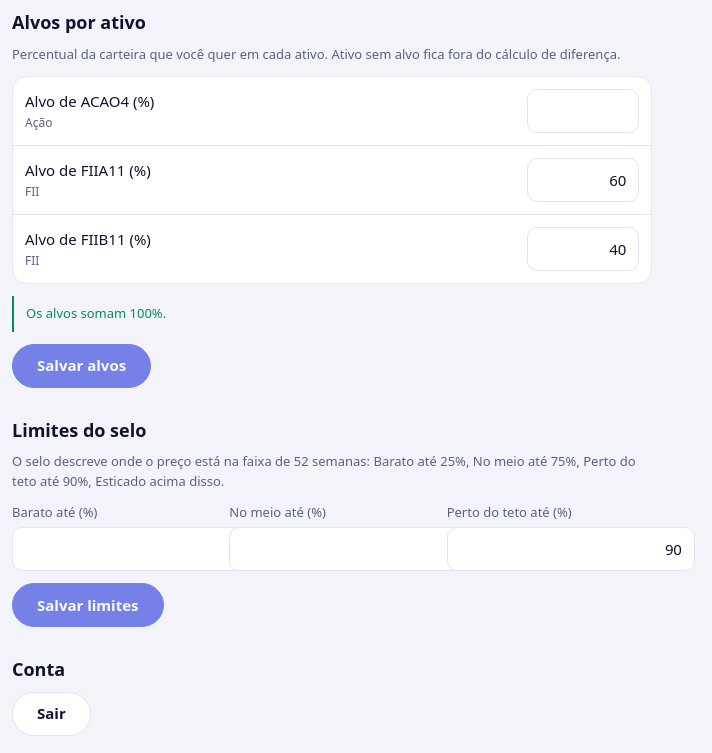
Configurações: alvos › ativo sem alvo fica fora da soma
Expected: the text "Os alvos somam 100%." is shown, [12, 296, 652, 332]
Clear the field labelled "Alvo de FIIB11 (%)": (583, 249) [527, 227, 639, 271]
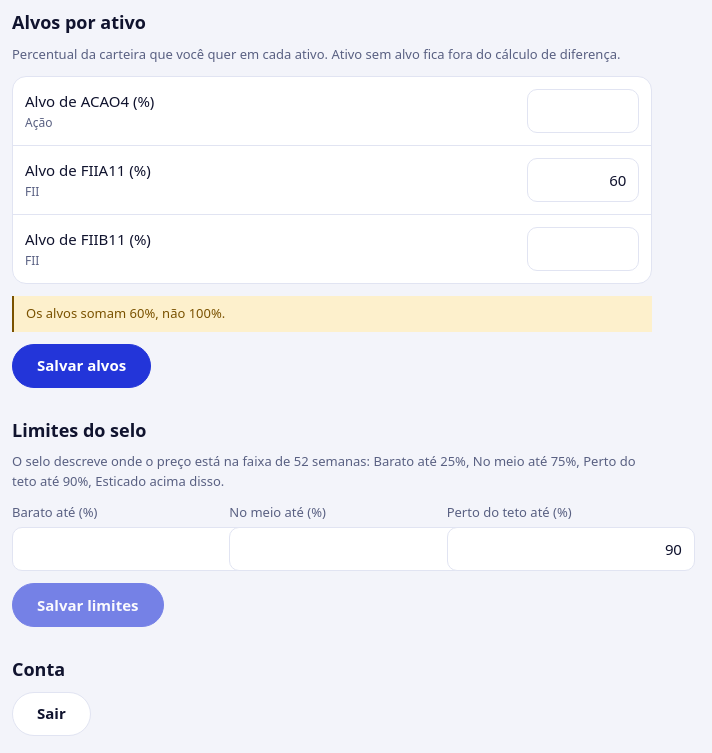
Result: the text "Os alvos somam 60%, não 100%." is shown at [12, 296, 652, 332]
